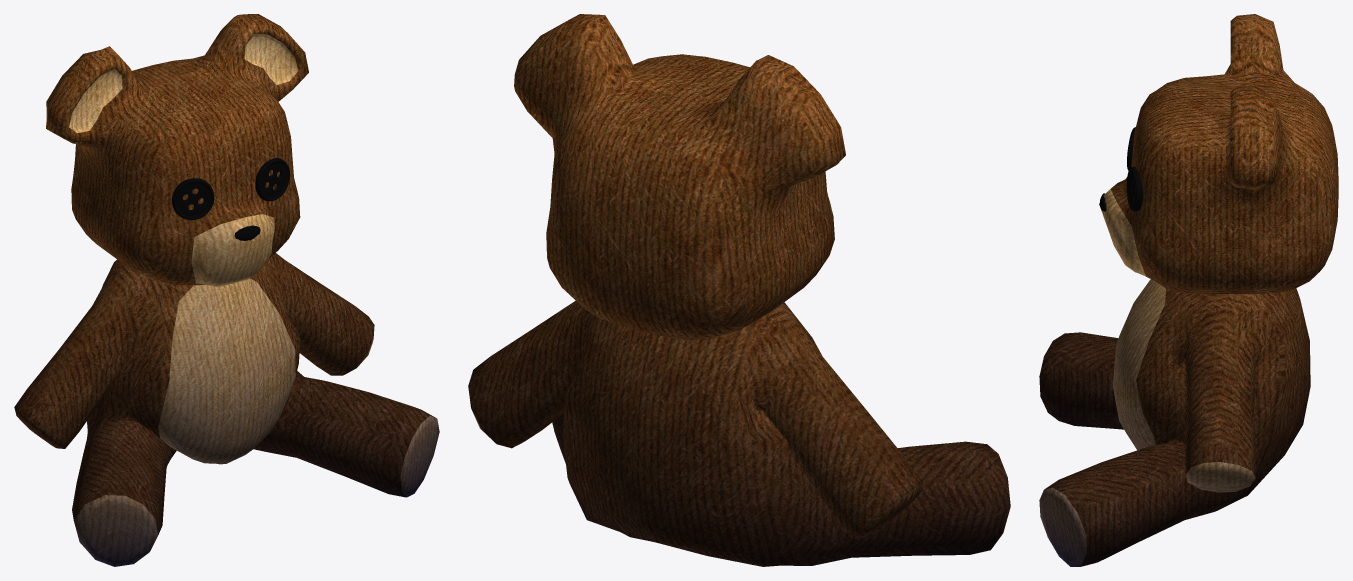
File: teddybear.glb
The picture shows the model from 3 angles, left to right: view 1: azimuth 30°, elevation 25°; view 2: azimuth 150°, elevation 25°; view 3: azimuth 270°, elevation 25°; orthographic projection. The views are drawn at different scales.
Visible parts, largest first — view 1: teddybearShape; view 2: teddybearShape; view 3: teddybearShape.
Boxes of the visible parts, x1,y1,x2,y2 form: teddybearShape: [14, 14, 439, 566]; teddybearShape: [468, 14, 1010, 566]; teddybearShape: [1039, 14, 1338, 566].
Size of the model in its own units: 0.1438 by 0.1627 by 0.1001.
Materials: 4 (4 with a texture image).
